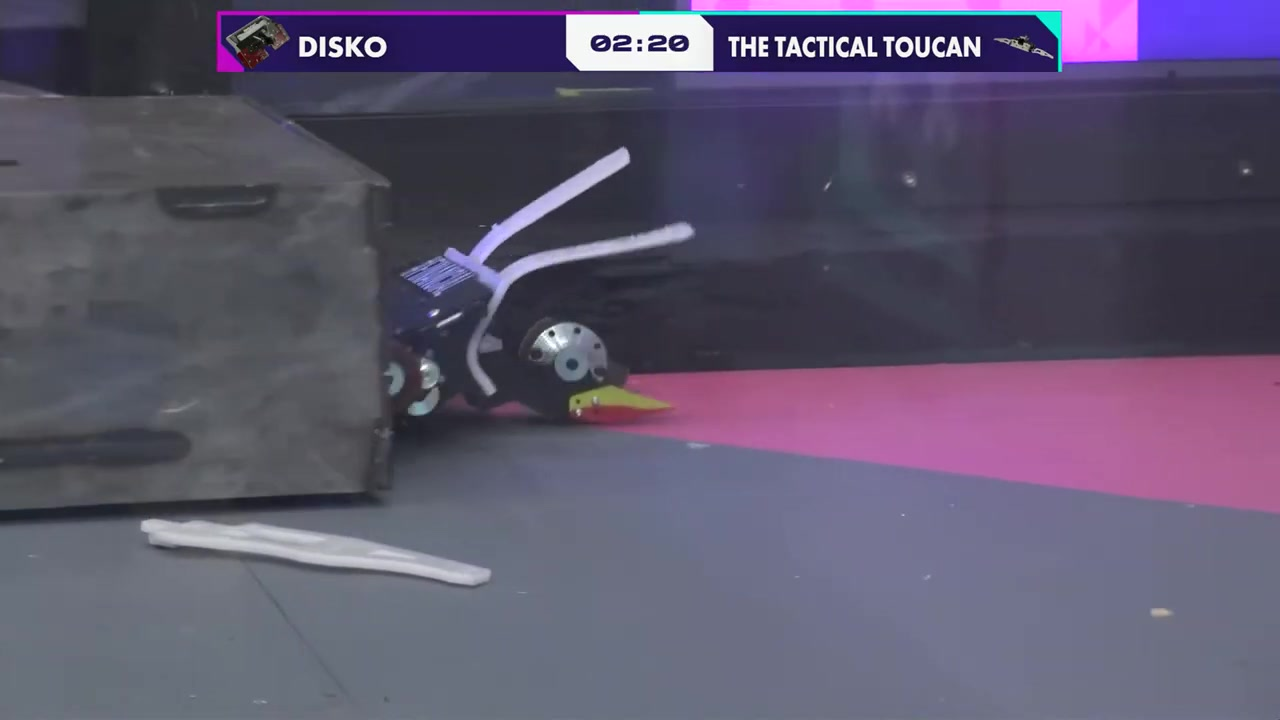combatbot: (388, 249, 675, 426)
debris: (141, 497, 491, 596)
housebot: (0, 100, 389, 533)
